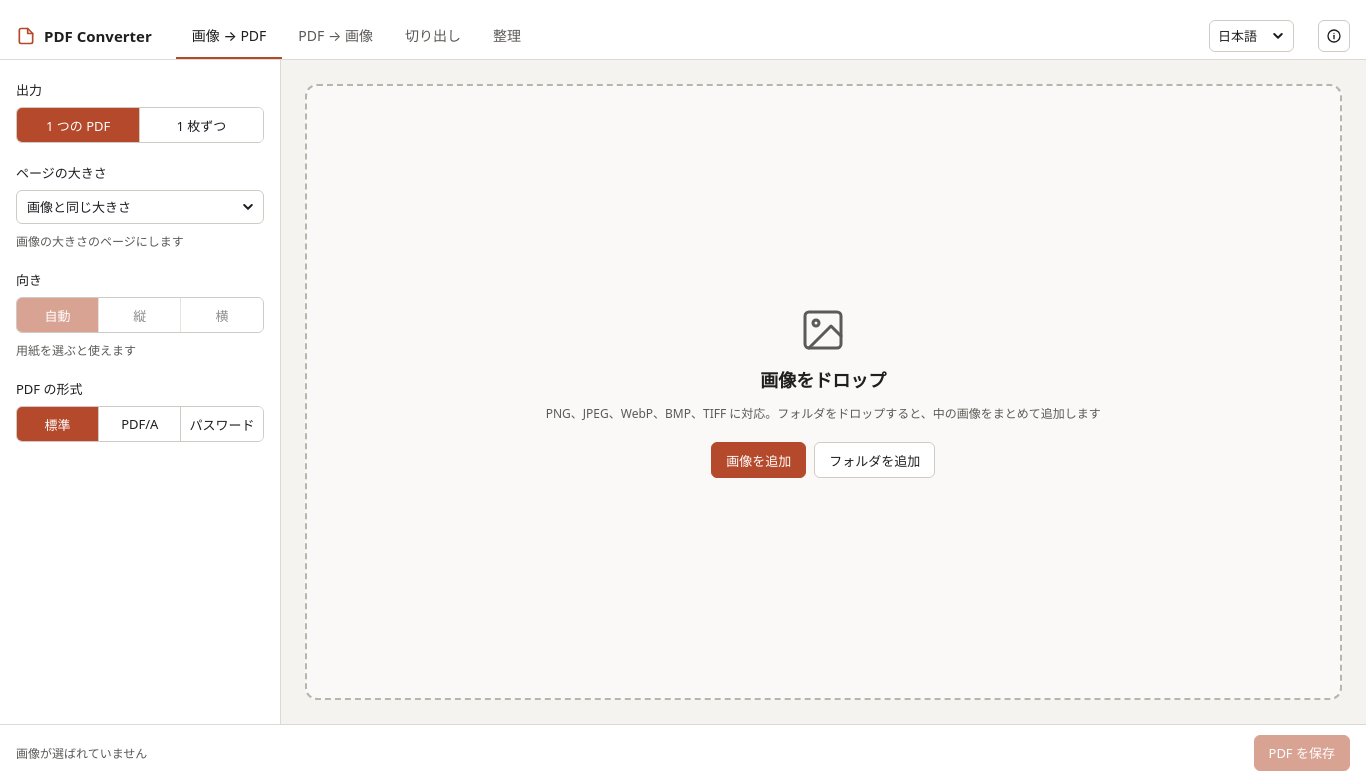
starting the save in parts › asks for the folder first when none is chosen, and starts with the one chosen
Click the tab "整理" at x=507, y=36, box left=477, top=12, right=537, bottom=59
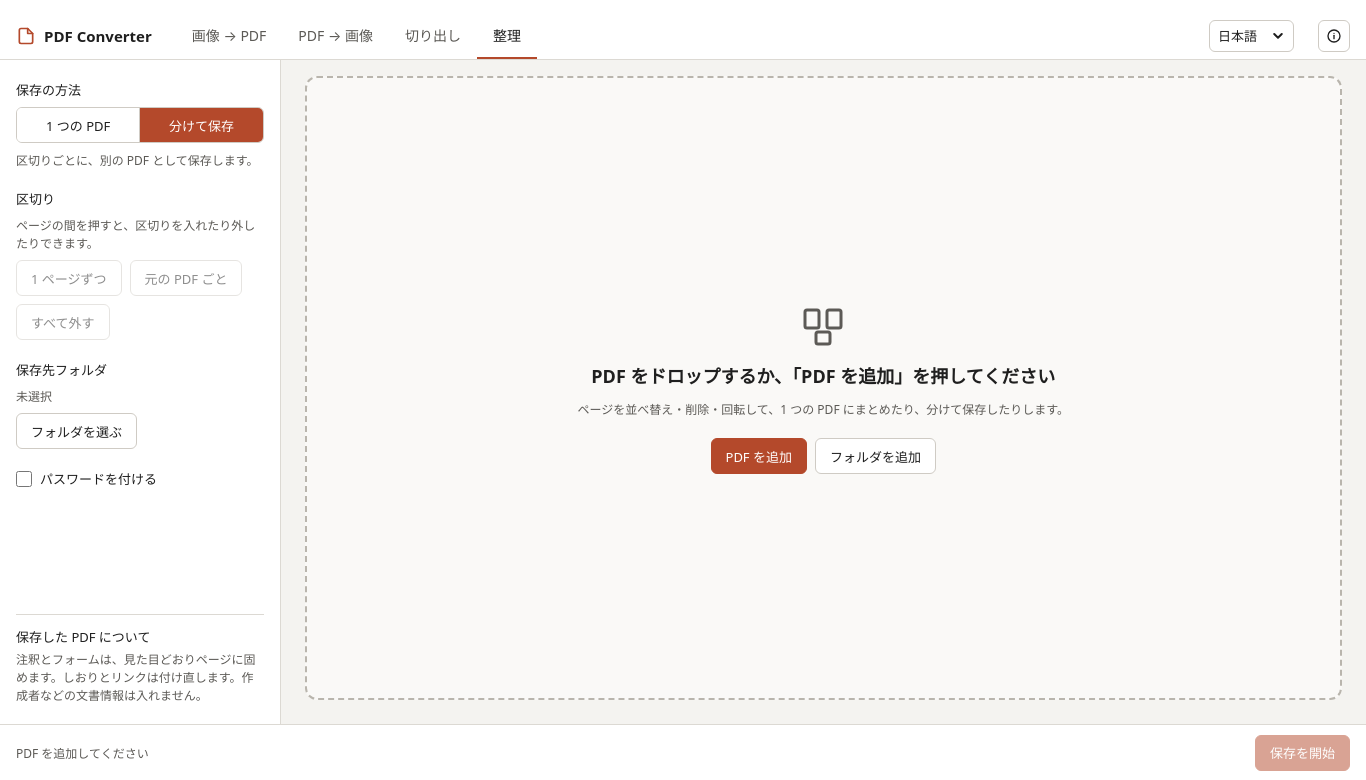
Click the button "PDF を追加" at x=759, y=456, box left=710, top=438, right=807, bottom=474
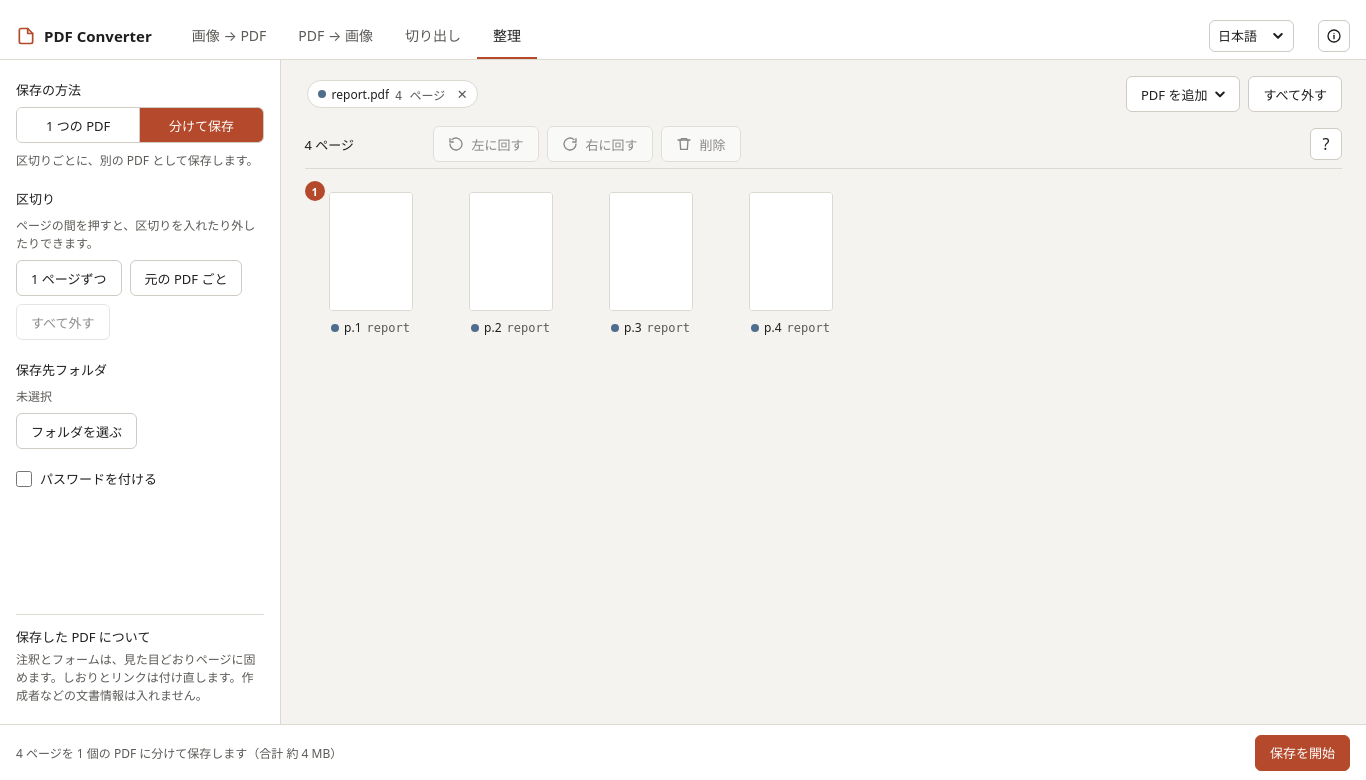
Now the text with test id "output-dir-name" reads "未選択", box left=16, top=388, right=52, bottom=405
Click the button "保存を開始" at x=1302, y=752, box left=1255, top=734, right=1350, bottom=770
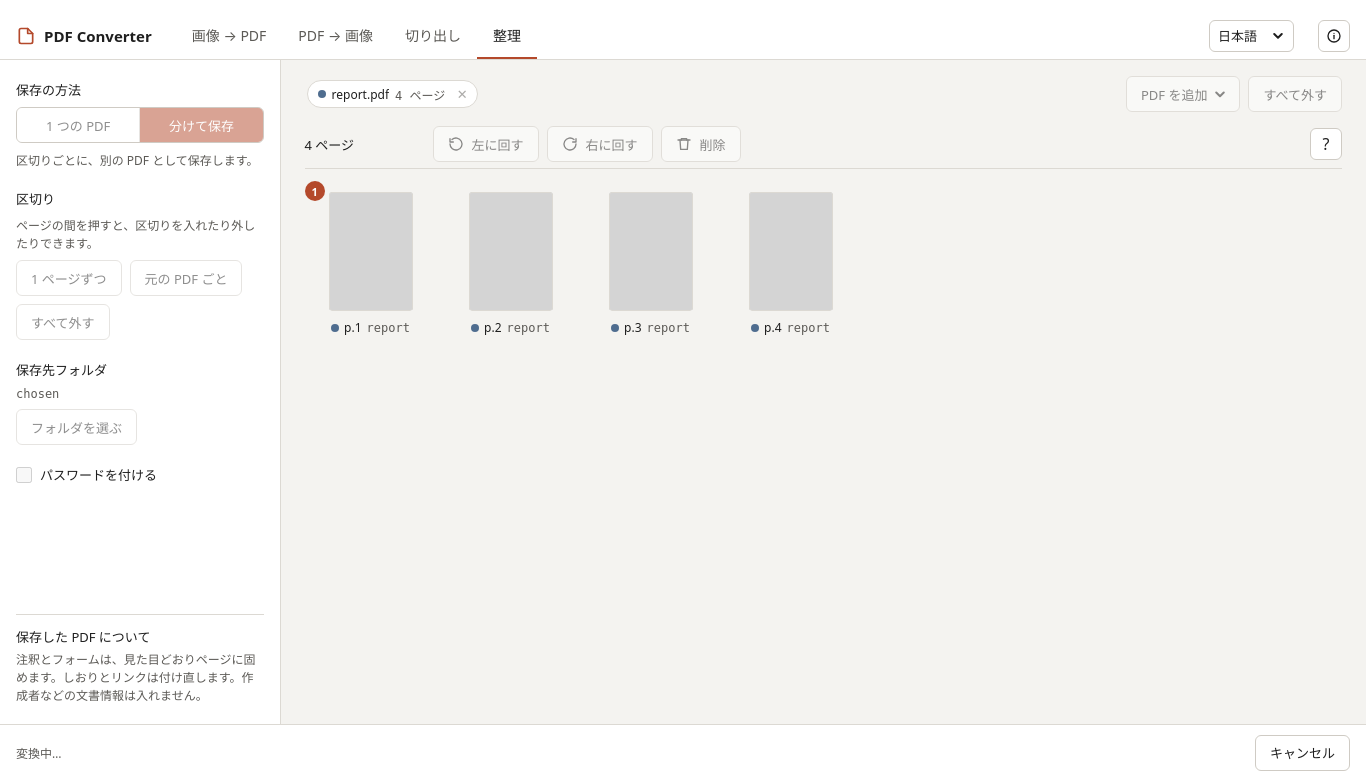
Now the text with test id "output-dir-name" reads "chosen", box left=16, top=387, right=59, bottom=401
